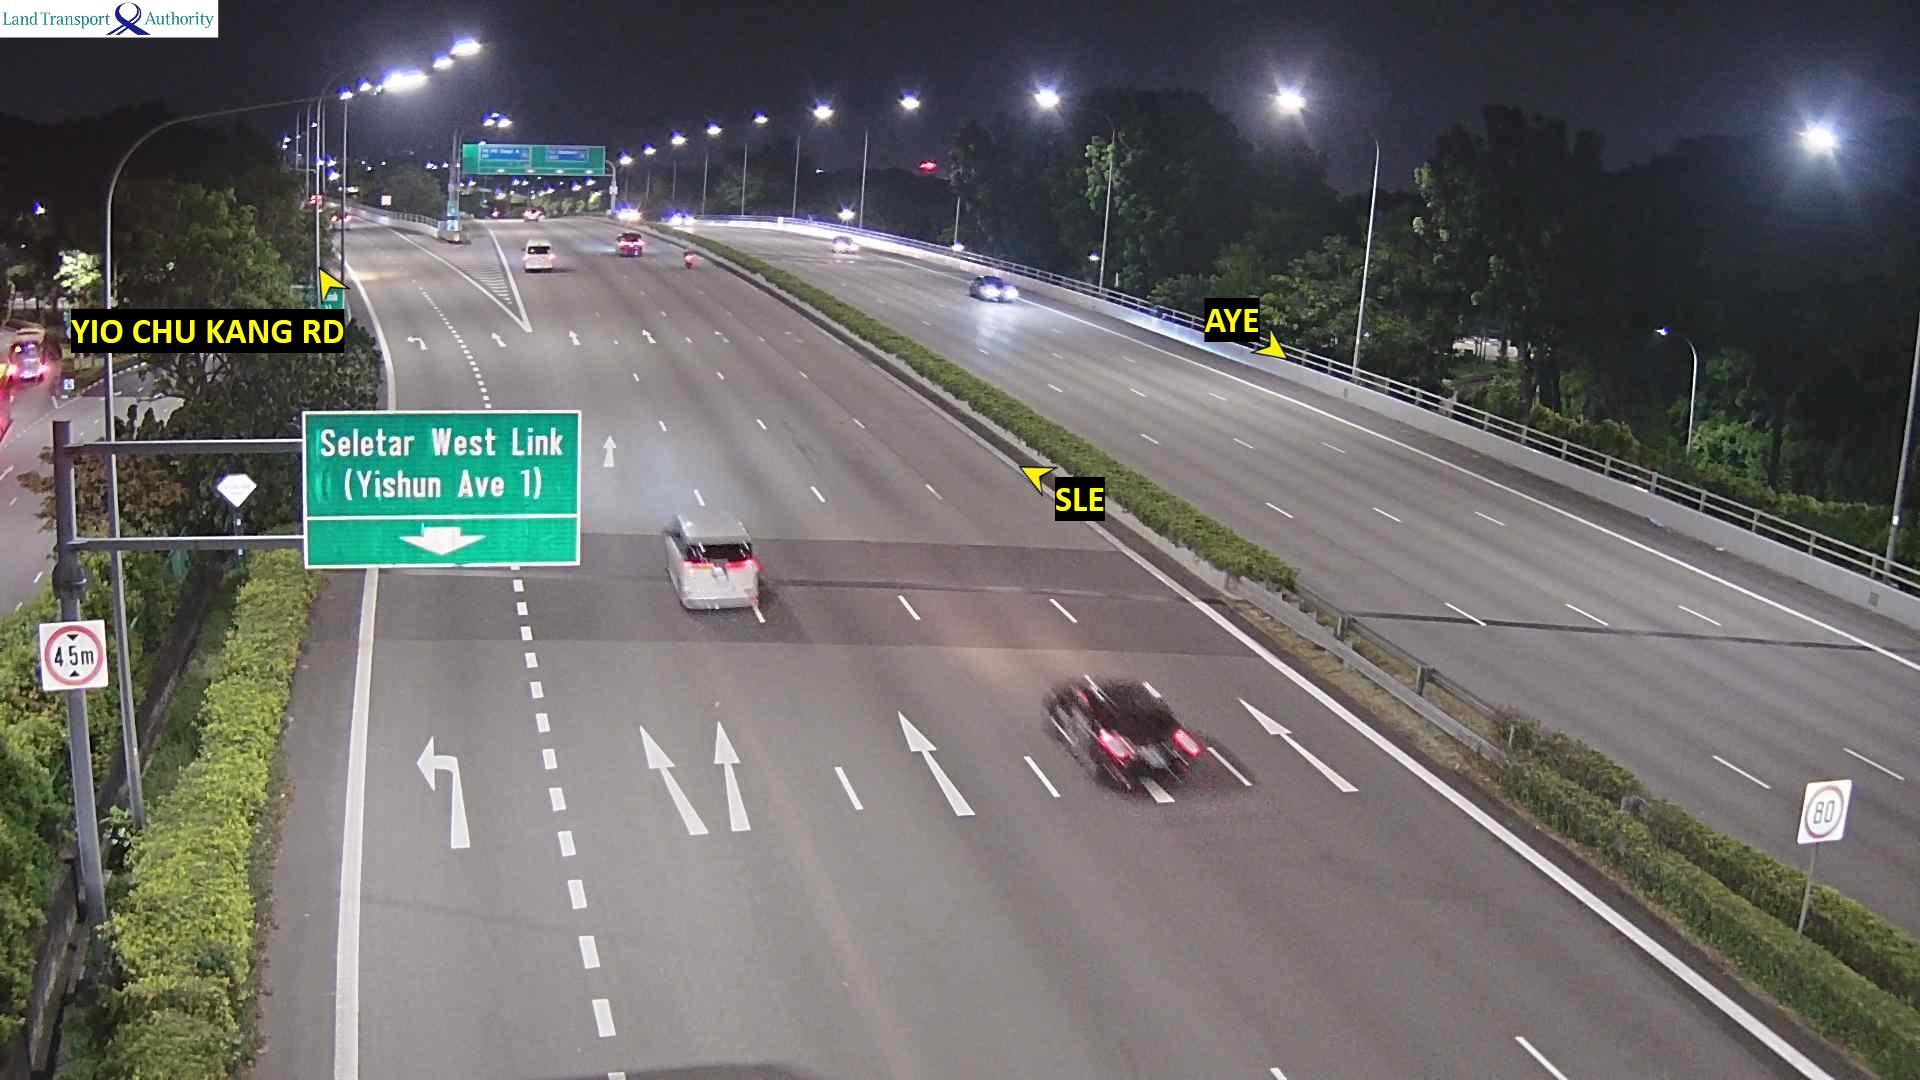cars: (1040, 671, 1203, 794), (659, 506, 762, 612), (7, 338, 45, 382), (968, 274, 1018, 302), (521, 239, 555, 272), (326, 207, 359, 233), (615, 229, 644, 256), (829, 233, 858, 255), (661, 208, 694, 225), (617, 204, 647, 223), (522, 204, 545, 222), (682, 247, 698, 268)
